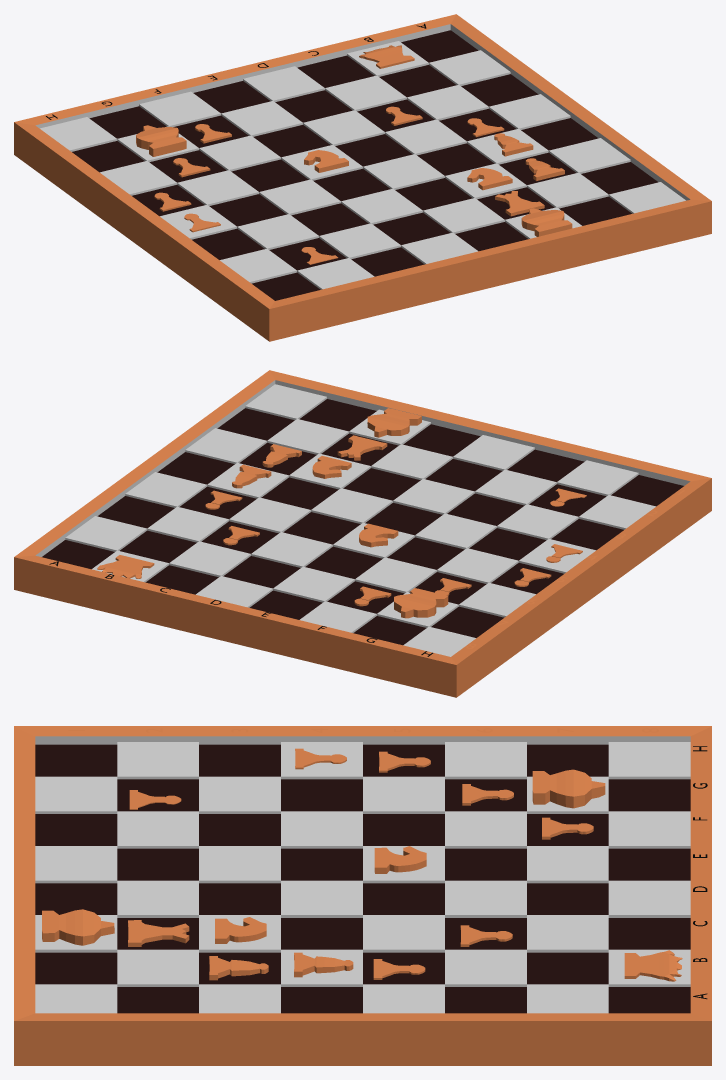
File: sTACK.fbx
3 renders of one model, top to bottom at view 1: azimuth 30°, elevation 25°; view 2: azimuth 150°, elevation 25°; view 3: azimuth 270°, elevation 25°, orthographic. The views are drawn at different scales.
Parts seen in each view (by area): view 1: Cube.014; view 2: Cube.014; view 3: Cube.014.
Part boxes in pixels (x1,y1,x2,y2): Cube.014: (14, 14, 711, 341); Cube.014: (14, 370, 711, 697); Cube.014: (14, 726, 711, 1065).
Bounding box in the file's own units: 213 × 16.7 × 213.
